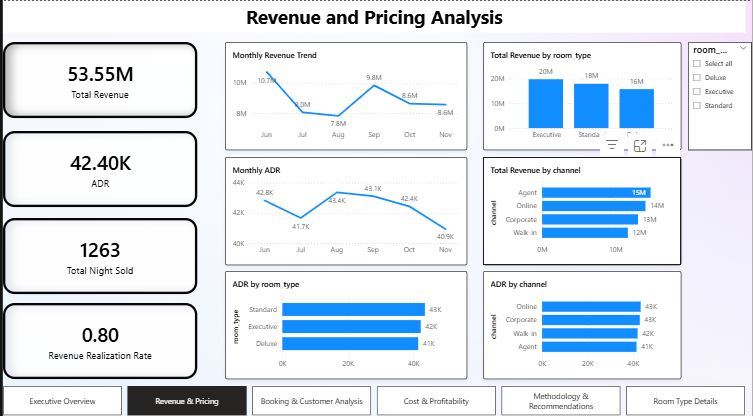

The dashboard page shown, as its layout file describes it:
{"tool":"powerbi","page":{"name":"Revenue & Pricing","canvas":[1280,720],"ordinal":1},"visuals":[{"type":"textbox","box":[0,0,1268.9,54.1],"z":0},{"type":"card","fields":{"Values":["Date.Total Revenue"]},"box":[0,70.3,332.4,129.7],"z":1000},{"type":"card","fields":{"Values":["Date.ADR"]},"box":[0,223,332.4,129.7],"z":2000},{"type":"card","fields":{"Values":["Date.Total Night Sold"]},"box":[0,370.3,332.4,129.7],"z":3000},{"type":"card","fields":{"Values":["Date.Revenue Realization Rate"]},"box":[0,516.2,332.4,129.7],"z":4000},{"type":"lineChart","title":"Monthly Revenue Trend","fields":{"Category":["Date.Month"],"Y":["Date.Total Revenue"]},"box":[379.1,70.5,414.4,185.1],"z":5000},{"type":"lineChart","title":"Monthly ADR","fields":{"Category":["Date.Month"],"Y":["Date.ADR"]},"box":[379.1,266,414.4,185.1],"z":6000},{"type":"columnChart","fields":{"Category":["bookings.room_type"],"Y":["Date.Total Revenue"]},"box":[819.9,70.5,339.4,185.1],"z":7000},{"type":"barChart","fields":{"Category":["bookings.room_type"],"Y":["Date.ADR"]},"box":[379.1,461.4,414.4,185.1],"z":8000},{"type":"barChart","fields":{"Category":["bookings.channel"],"Y":["Date.Total Revenue"]},"box":[819.9,266,339.4,185.1],"z":9000},{"type":"barChart","fields":{"Category":["bookings.channel"],"Y":["Date.ADR"]},"box":[819.9,461.4,339.4,185.1],"z":10000},{"type":"pageNavigator","box":[0,658.1,1268.9,50],"z":11000},{"type":"slicer","fields":{"Values":["bookings.room_type"]},"box":[1170.6,70.1,109.4,184.6],"z":13000}]}

Visuals, with their boxes in screenshot pixels (x1, y1, x2, y2), scaled from the page's 1280x720 canvas onto the 753x416 screenshot:
textbox: x1=0, y1=0, x2=746, y2=31
card - Date.Total Revenue: x1=0, y1=41, x2=196, y2=116
card - Date.ADR: x1=0, y1=129, x2=196, y2=204
card - Date.Total Night Sold: x1=0, y1=214, x2=196, y2=289
card - Date.Revenue Realization Rate: x1=0, y1=298, x2=196, y2=373
"Monthly Revenue Trend" lineChart: x1=223, y1=41, x2=467, y2=148
"Monthly ADR" lineChart: x1=223, y1=154, x2=467, y2=261
columnChart - bookings.room_type x Date.Total Revenue: x1=482, y1=41, x2=682, y2=148
barChart - bookings.room_type x Date.ADR: x1=223, y1=267, x2=467, y2=374
barChart - bookings.channel x Date.Total Revenue: x1=482, y1=154, x2=682, y2=261
barChart - bookings.channel x Date.ADR: x1=482, y1=267, x2=682, y2=374
pageNavigator: x1=0, y1=380, x2=746, y2=409
slicer - bookings.room_type: x1=689, y1=41, x2=752, y2=147
